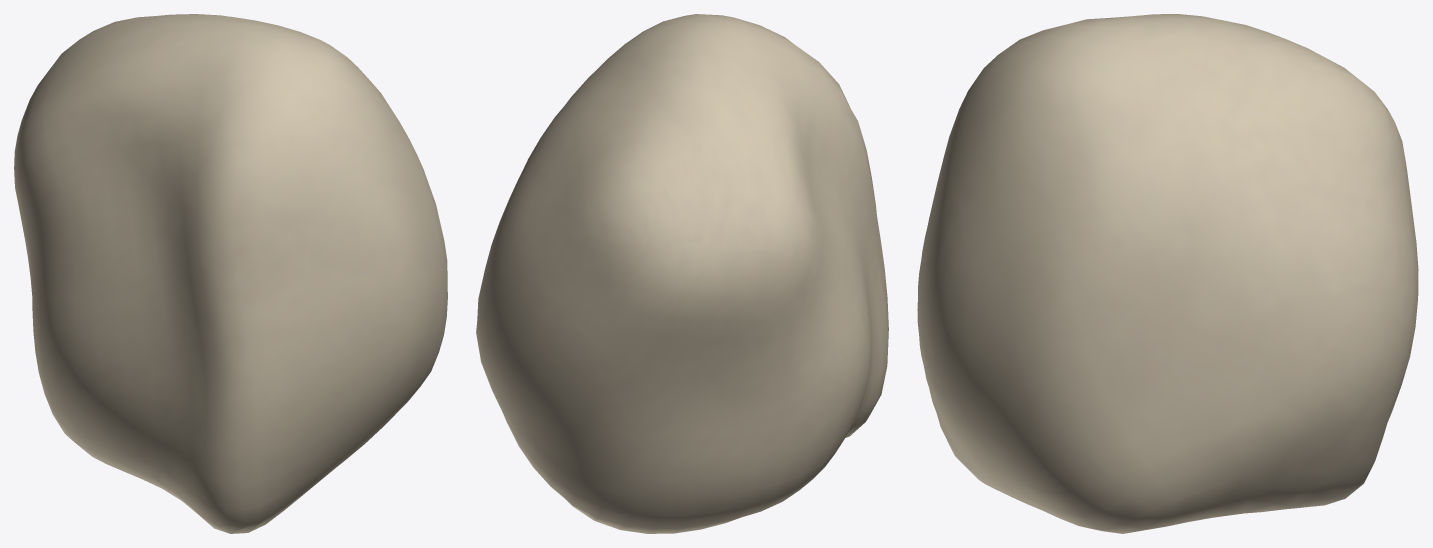
Rendered from L carpale tertium.fbx.
The picture shows the model from 3 angles, left to right: view 1: azimuth 30°, elevation 25°; view 2: azimuth 150°, elevation 25°; view 3: azimuth 270°, elevation 25°; orthographic projection. The views are drawn at different scales.
Parts seen in each view (by area): view 1: L carpale tertium; view 2: L carpale tertium; view 3: L carpale tertium.
Boxes of the visible parts, x1=… form: L carpale tertium: x1=14, y1=14, x2=447, y2=533; L carpale tertium: x1=476, y1=14, x2=888, y2=533; L carpale tertium: x1=917, y1=14, x2=1418, y2=533.
Bounding box in the file's own units: 1.74 × 2.05 × 1.92.
